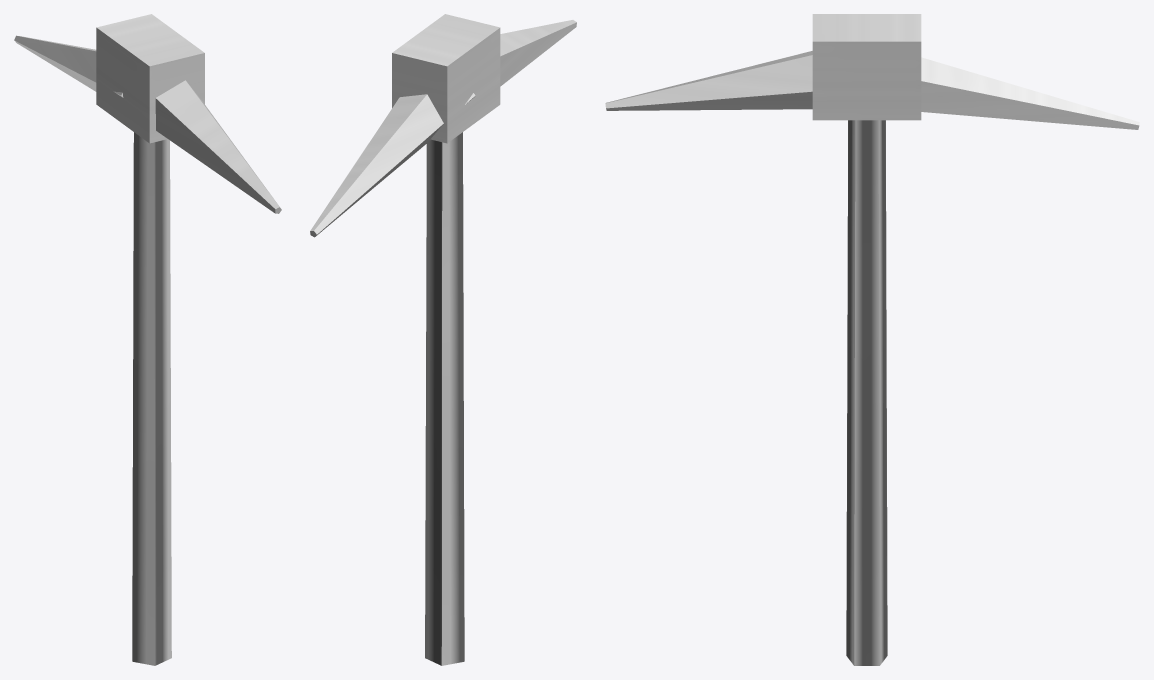
Rendered from tool_pickaxe.obj.
3 renders of one model, left to right at view 1: azimuth 30°, elevation 25°; view 2: azimuth 150°, elevation 25°; view 3: azimuth 270°, elevation 25°, orthographic. The views are drawn at different scales.
Visible parts, largest first — view 1: tool_pickaxe; view 2: tool_pickaxe; view 3: tool_pickaxe.
Part boxes in pixels (x1,y1,x2,y2): tool_pickaxe: [14, 14, 281, 665]; tool_pickaxe: [310, 14, 576, 665]; tool_pickaxe: [605, 14, 1139, 665].
Size of the model in its own units: 0.062 by 0.64 by 0.4913.
